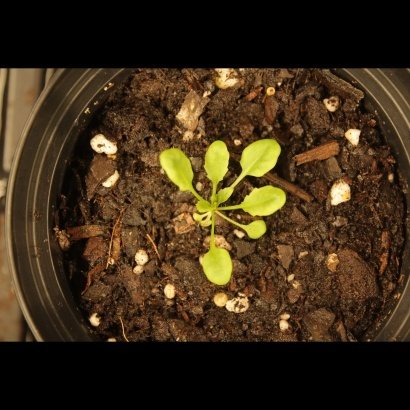leaf: (154, 141, 198, 199), (237, 136, 284, 182), (197, 239, 237, 291), (240, 184, 291, 218), (201, 136, 232, 186), (241, 219, 271, 247), (215, 186, 238, 209), (194, 198, 217, 221)
